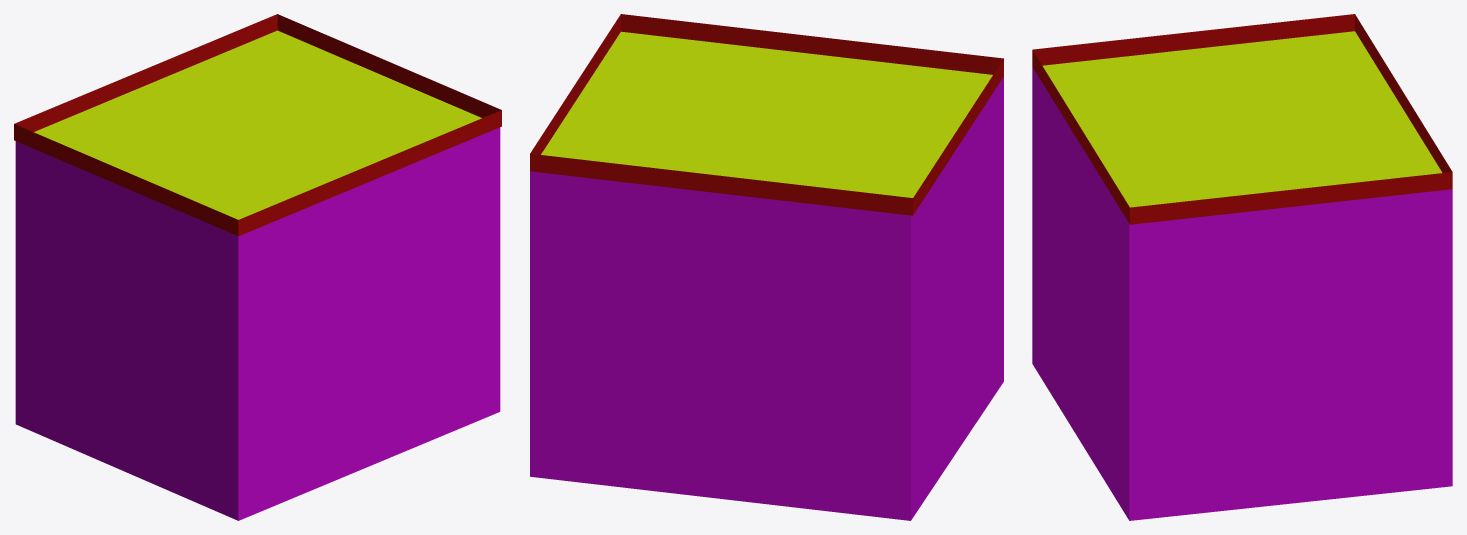
Rendered from sdt_13.glb.
3 renders of one model, left to right at view 1: azimuth 30°, elevation 25°; view 2: azimuth 150°, elevation 25°; view 3: azimuth 270°, elevation 25°, orthographic. The views are drawn at different scales.
Parts seen in each view (by area): view 1: sdt_13; view 2: sdt_13; view 3: sdt_13.
Part boxes in pixels (box(x1,y1,x2,y2)): sdt_13: box(14, 14, 501, 520); sdt_13: box(530, 14, 1003, 520); sdt_13: box(1032, 14, 1452, 520).
Bounding box in the file's own units: 8.44 × 6.39 × 7.74.
